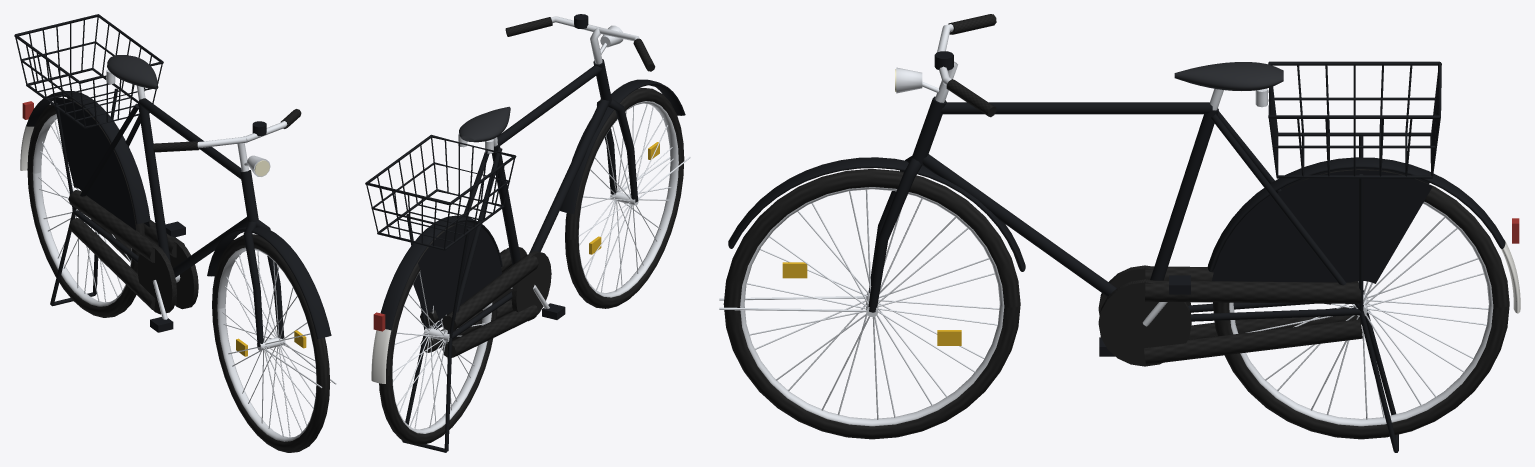
File: basikal_tua_hitam_bakul.glb
3 views of the same model, side by side, from view 1: azimuth 30°, elevation 25°; view 2: azimuth 150°, elevation 25°; view 3: azimuth 270°, elevation 25° (orthographic). The views are drawn at different scales.
Parts seen in each view (by area): view 1: Basikal_Tua_Hitam_Bakul; view 2: Basikal_Tua_Hitam_Bakul; view 3: Basikal_Tua_Hitam_Bakul.
Part boxes in pixels (x1,y1,x2,y2): Basikal_Tua_Hitam_Bakul: (14,14,336,452); Basikal_Tua_Hitam_Bakul: (365,14,690,452); Basikal_Tua_Hitam_Bakul: (719,14,1520,452).
Size of the model in its own units: 0.5196 by 0.9962 by 1.84.
Materials: 1 (1 with a texture image).
